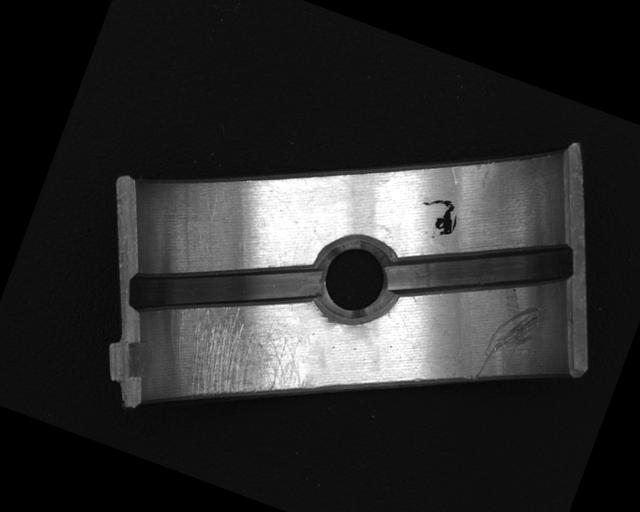blot: (413, 189, 465, 240)
gap: (116, 209, 326, 369), (378, 187, 583, 349)
hole: (304, 226, 406, 330)
nick: (474, 290, 551, 394)
scratch: (172, 296, 323, 433)
